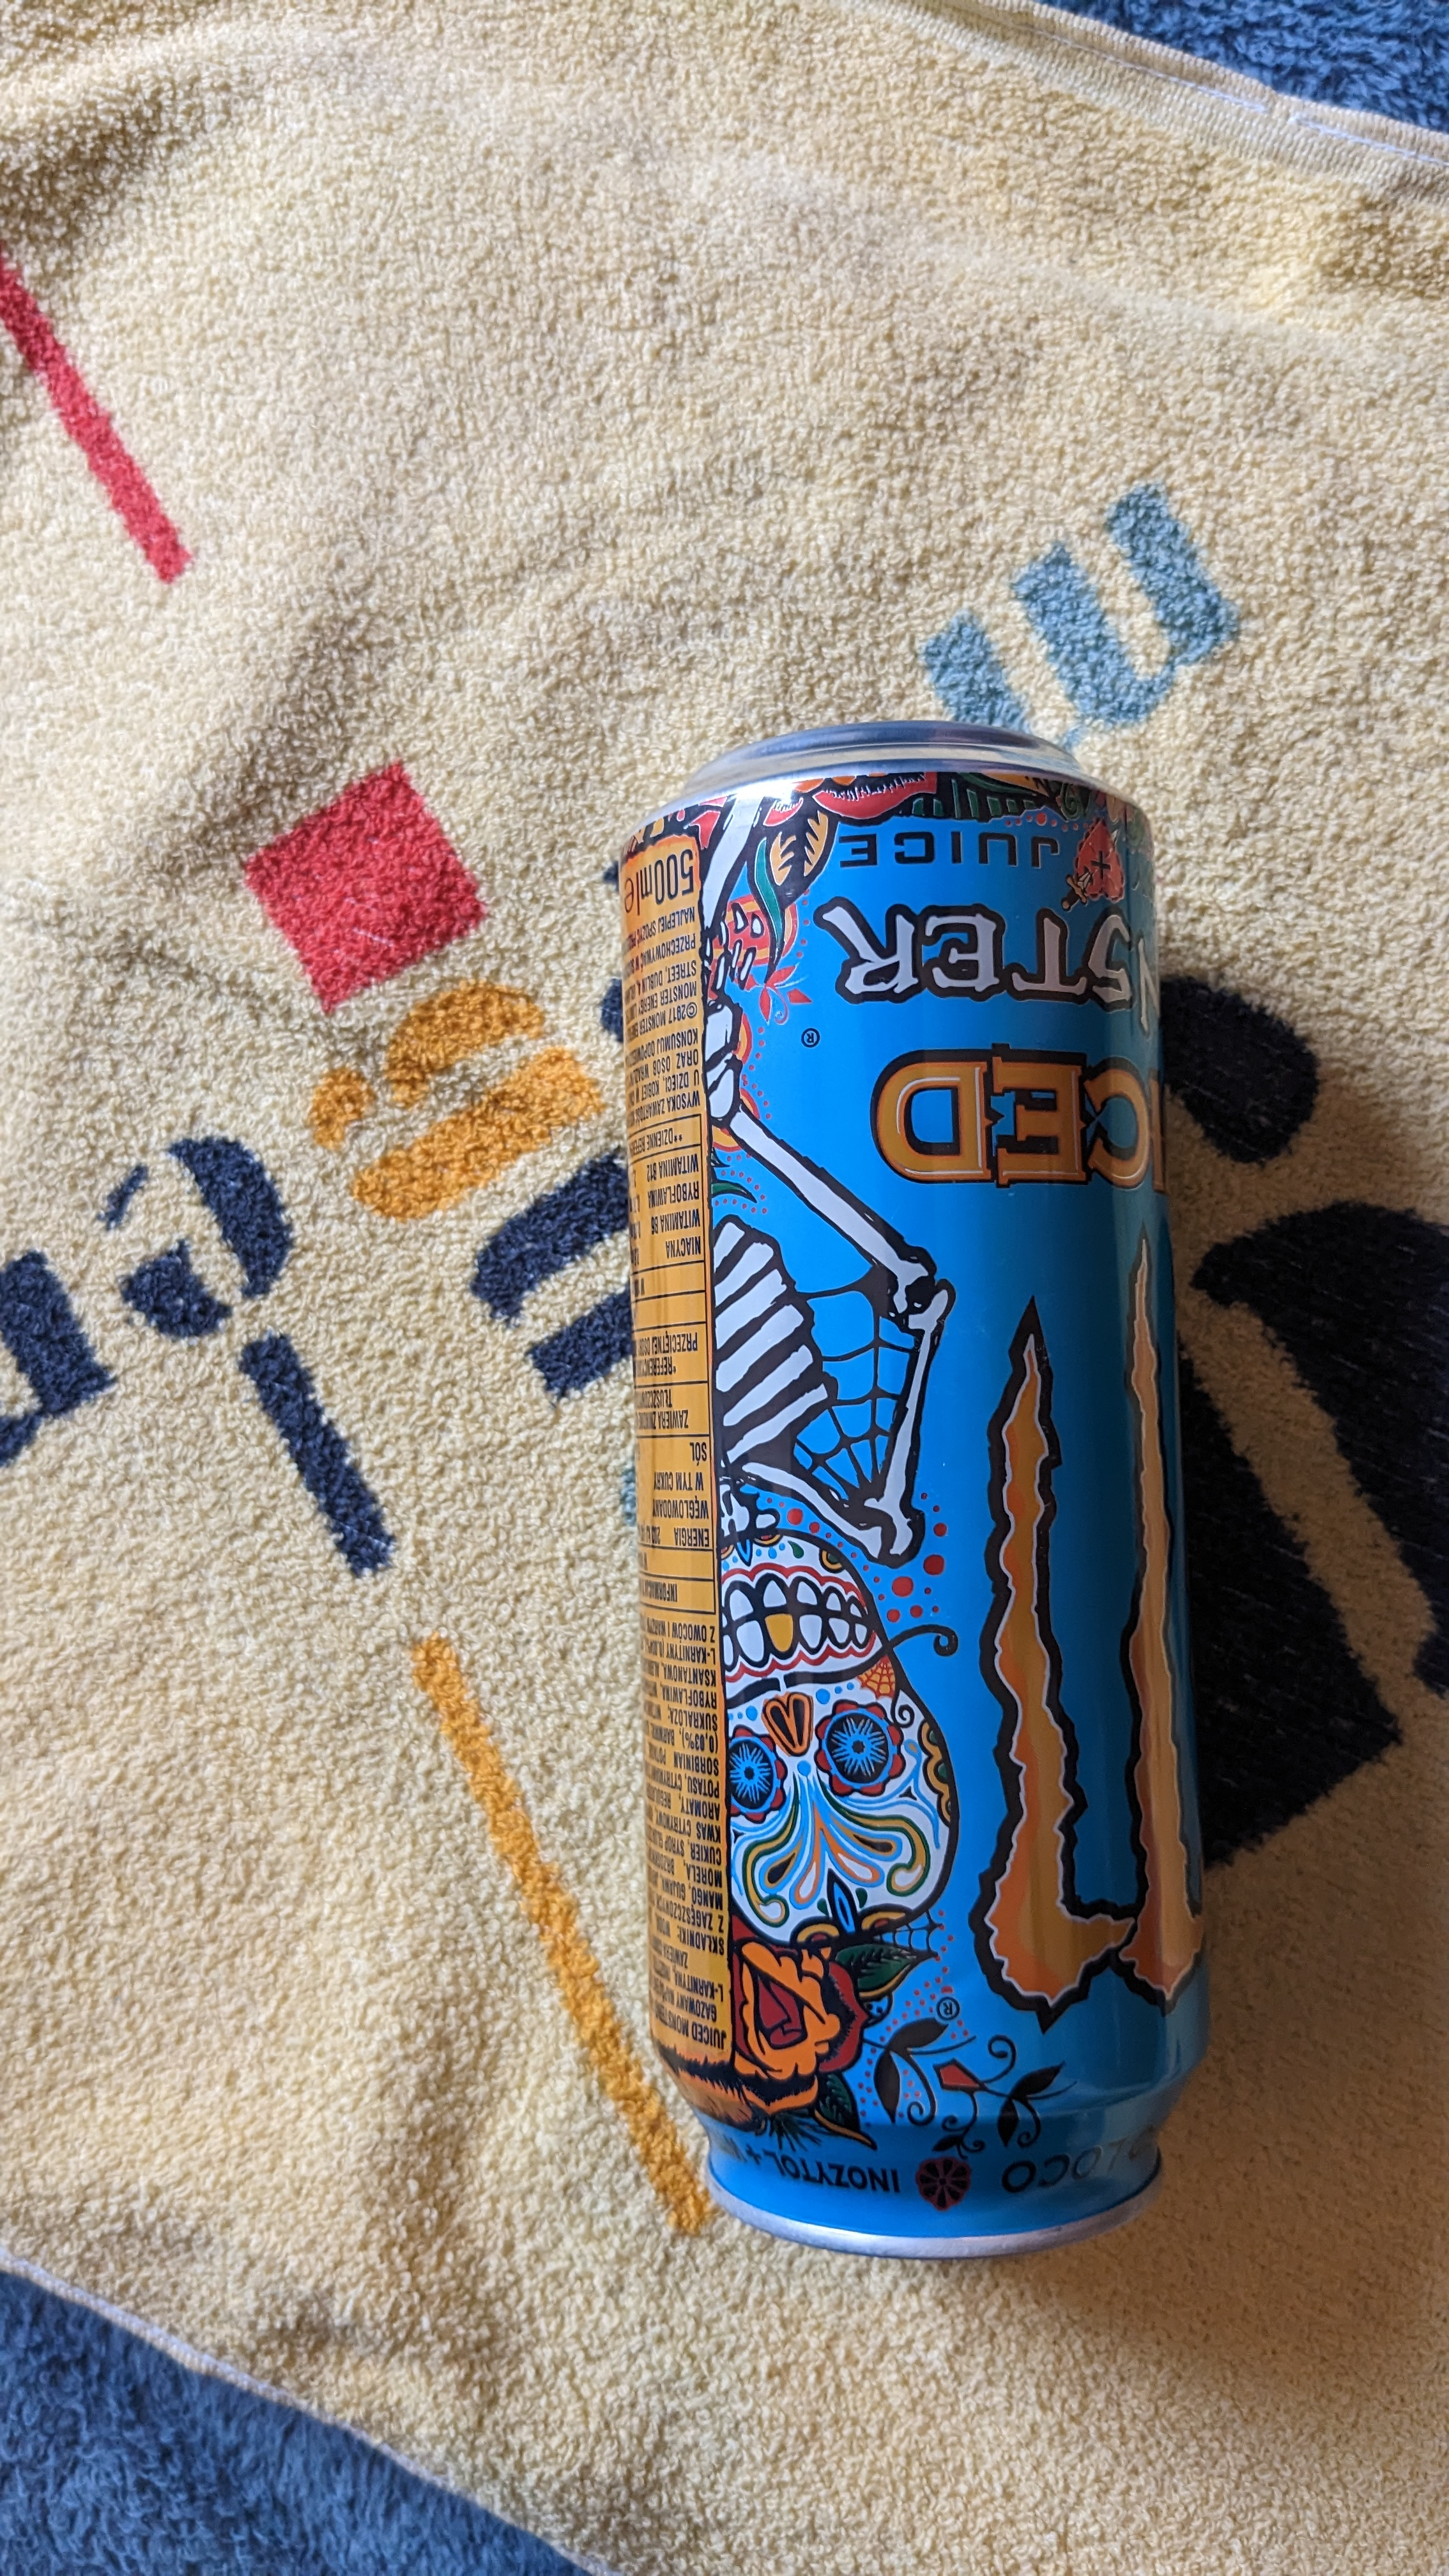monster: (591, 706, 1249, 2335)
